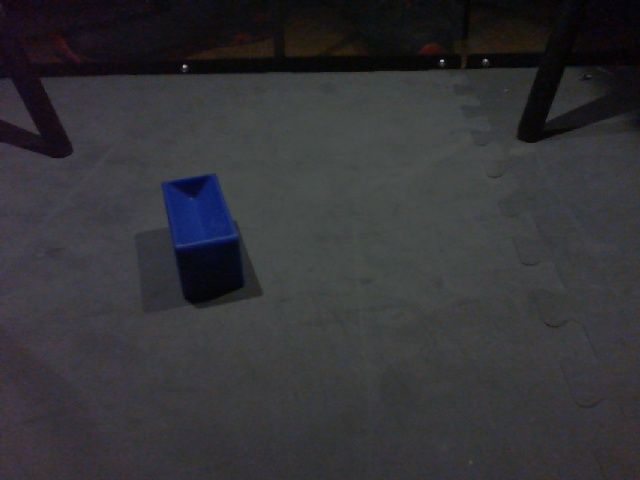BlueSample: (152, 168, 249, 302)
